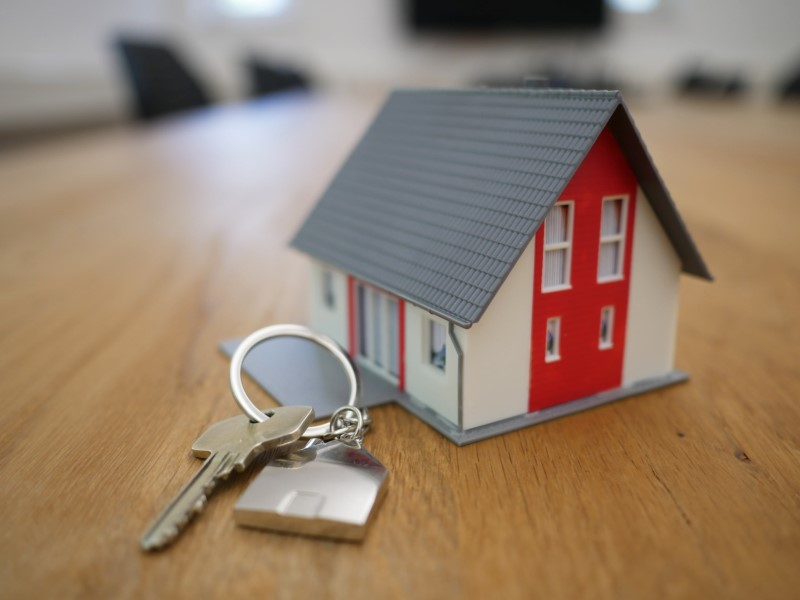key: (137, 399, 317, 554)
